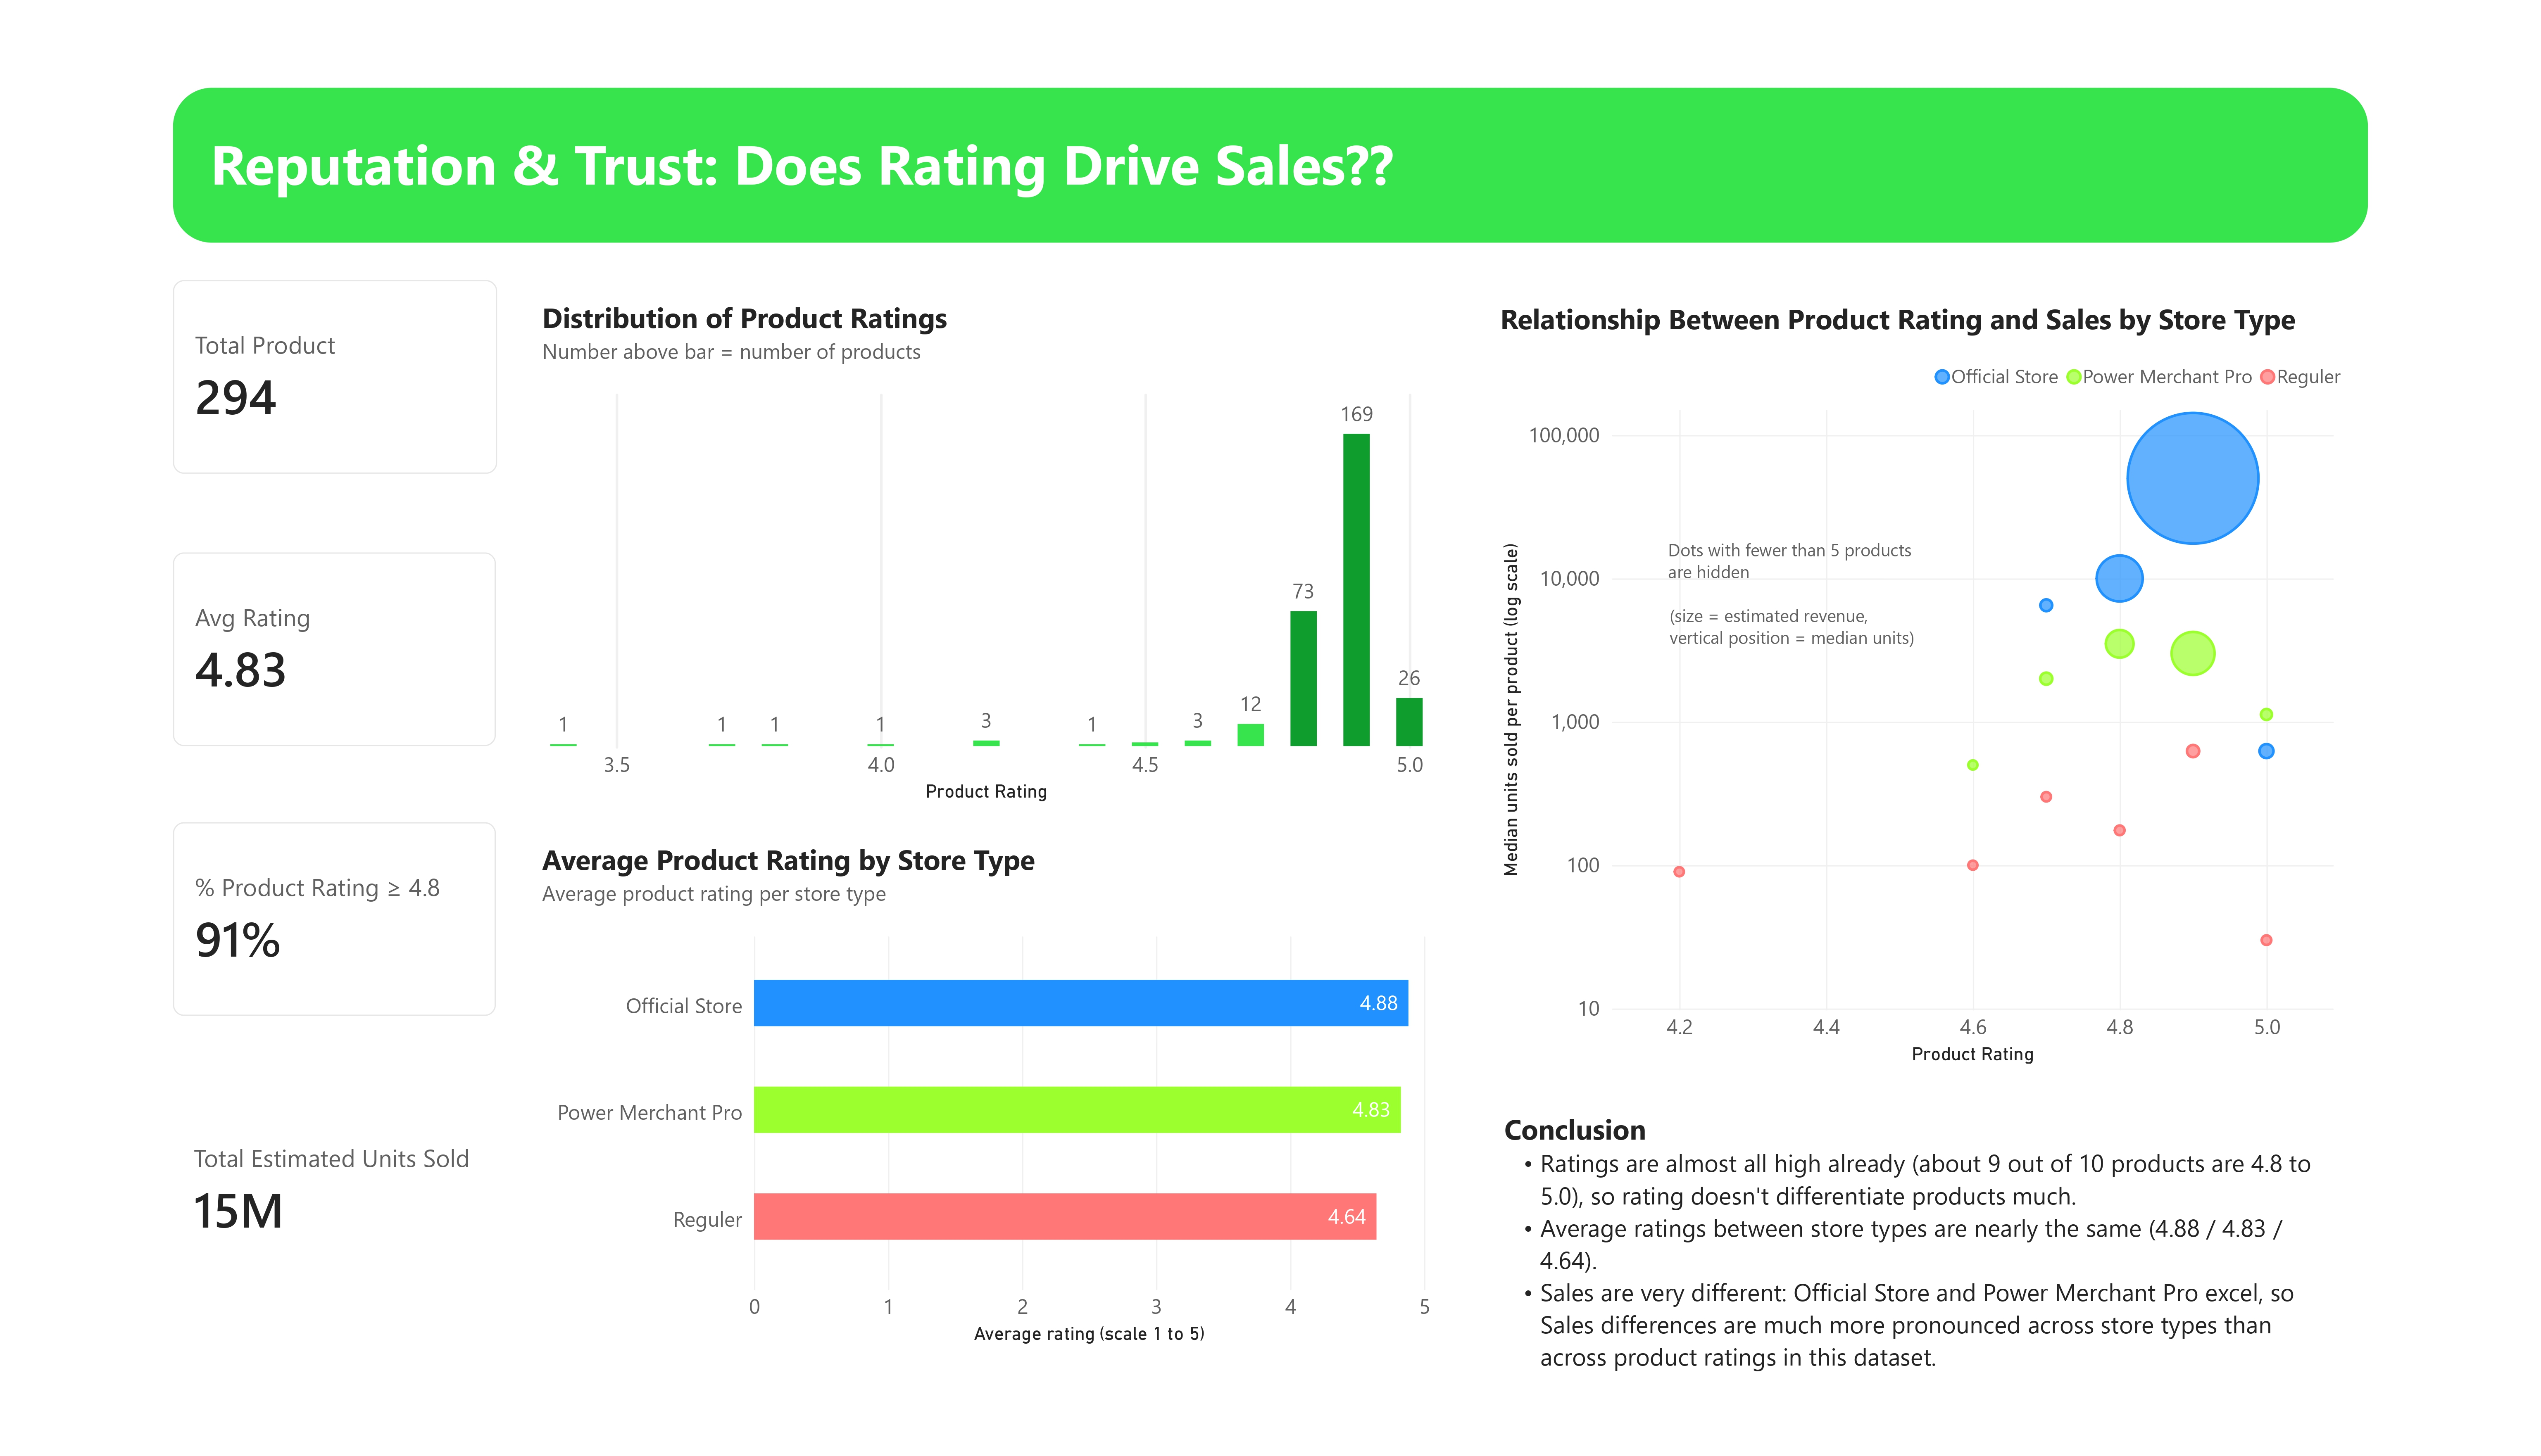

The page's visual inventory and layout, read from the dashboard file:
{"tool":"powerbi","page":{"name":"RQ2","canvas":[1920,1080],"ordinal":1},"visuals":[{"type":"shape","box":[110,44,1700,120],"z":0},{"type":"columnChart","title":"Distribution of Product Ratings","fields":{"Category":["clean_skincare.rating"],"Y":["CountNonNull(clean_skincare.product_name)"]},"box":[380.4,193.1,719.3,420],"z":1000},{"type":"clusteredBarChart","title":"Average Product Rating by Store Type","fields":{"Category":["clean_skincare.shop_badge"],"Y":["Avg(clean_skincare.rating)"]},"box":[380.4,612.9,719.3,420],"z":2000},{"type":"group","id":"g1","title":"Group 2","box":[1122,194,688,622],"z":3000},{"type":"cardVisual","fields":{"Data":["clean_skincare.Total Product"]},"box":[110.4,193.1,250.3,150],"z":4000},{"type":"cardVisual","fields":{"Data":["clean_skincare.Avg Rating"]},"box":[110.4,404,250,150],"z":5000},{"type":"scatterChart","title":"Relationship Between Product Rating and Sales by Store Type","fields":{"Series":["clean_skincare.shop_badge"],"Size":["Sum(clean_skincare.estimated_revenue)"],"X":["clean_skincare.rating"],"Y":["clean_skincare.estimated_sold"]},"box":[1122,194,688,622],"z":6000,"group":"g1"},{"type":"cardVisual","fields":{"Data":["clean_skincare.% Rating Tinggi"]},"box":[110.4,612.9,250,150],"z":6000},{"type":"shape","box":[1252,366.3,228,87.6],"z":7000,"group":"g2"},{"type":"cardVisual","fields":{"Data":["clean_skincare.Total Est. Sold"]},"box":[110.4,823.8,250,150],"z":7000},{"type":"shape","box":[1253.4,424.5,227.1,72.9],"z":8000,"group":"g2"},{"type":"textbox","box":[1122,816,688,220],"z":8000},{"type":"group","id":"g2","title":"Group 1","box":[1252,366.3,228.6,131],"z":8001,"group":"g1"}]}

Visuals, with their boxes on the page's 1920x1080 design canvas (x1, y1, x2, y2). These are canvas units, not pixel positions in the 2541x1456 screenshot, which may show the page scaled, cropped or inside an application window:
shape: x1=110 y1=44 x2=1810 y2=164
"Distribution of Product Ratings" columnChart: x1=380 y1=193 x2=1100 y2=613
"Average Product Rating by Store Type" clusteredBarChart: x1=380 y1=613 x2=1100 y2=1033
"Group 2" group: x1=1122 y1=194 x2=1810 y2=816
cardVisual - clean_skincare.Total Product: x1=110 y1=193 x2=361 y2=343
cardVisual - clean_skincare.Avg Rating: x1=110 y1=404 x2=360 y2=554
"Relationship Between Product Rating and Sales by Store Type" scatterChart: x1=1122 y1=194 x2=1810 y2=816
cardVisual - clean_skincare.% Rating Tinggi: x1=110 y1=613 x2=360 y2=763
shape: x1=1252 y1=366 x2=1480 y2=454
cardVisual - clean_skincare.Total Est. Sold: x1=110 y1=824 x2=360 y2=974
shape: x1=1253 y1=424 x2=1480 y2=497
textbox: x1=1122 y1=816 x2=1810 y2=1036
"Group 1" group: x1=1252 y1=366 x2=1481 y2=497
